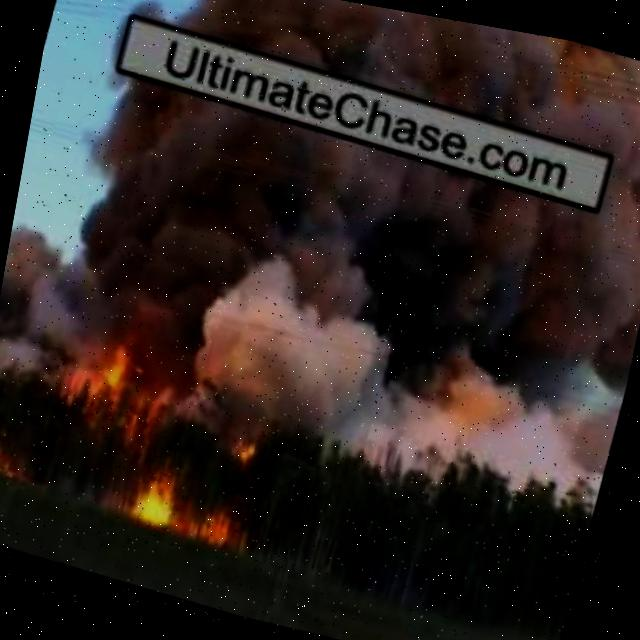fire: (49, 365, 169, 450), (95, 329, 146, 399), (136, 470, 191, 534), (209, 514, 246, 550)
